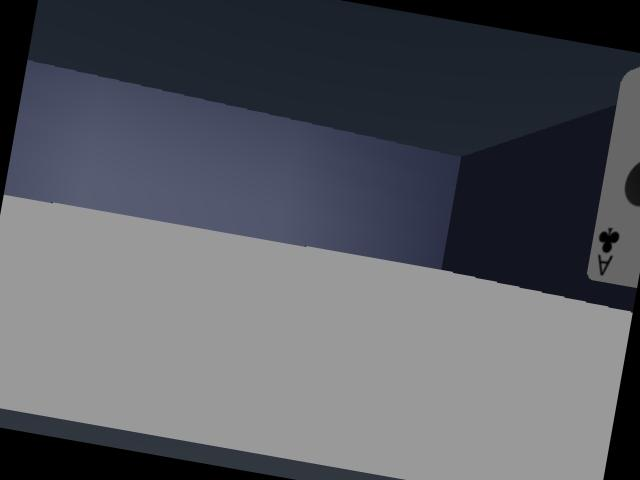club: (587, 68, 639, 287)
